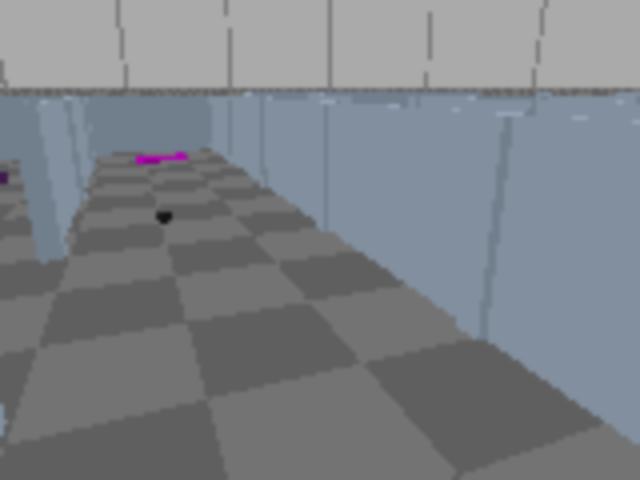goal_zone: (136, 154, 188, 163)
puck: (154, 209, 174, 226)
